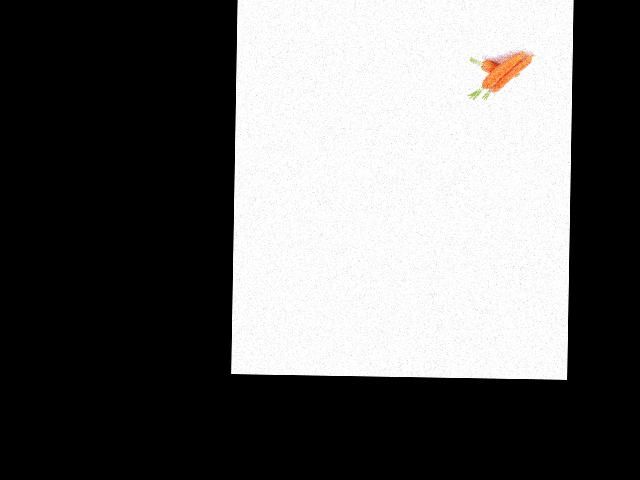carrot: (472, 58, 525, 79)
